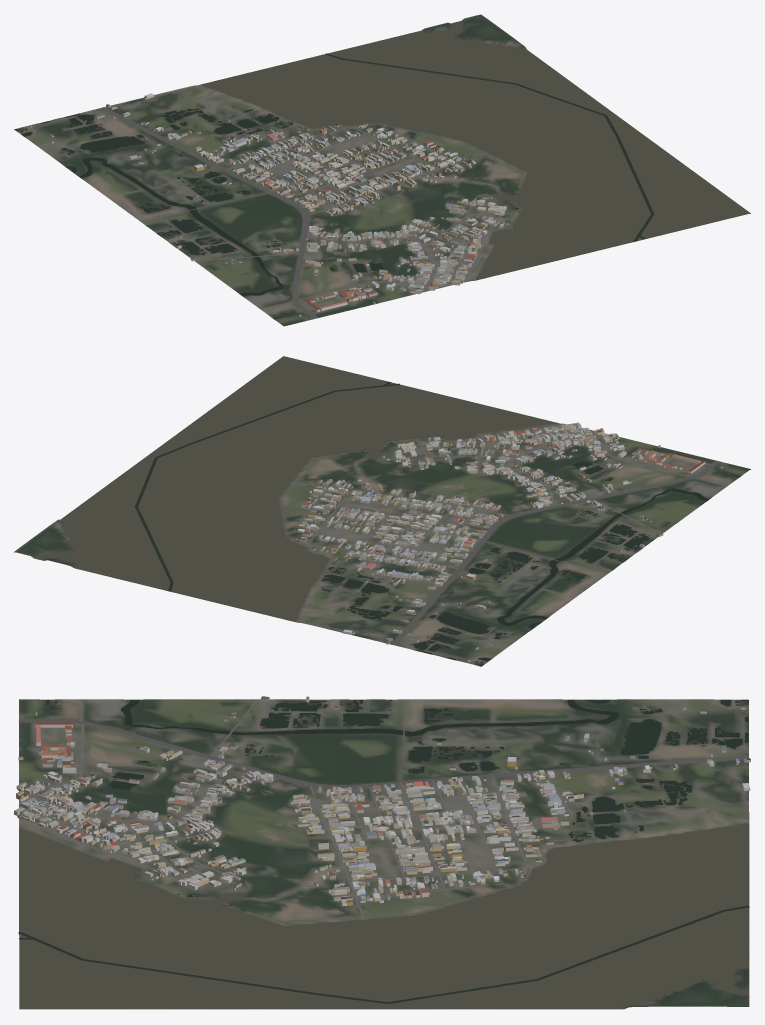
3 renders of one model, top to bottom at view 1: azimuth 30°, elevation 25°; view 2: azimuth 150°, elevation 25°; view 3: azimuth 270°, elevation 25°, orthographic. The views are drawn at different scales.
Parts seen in each view (by area): view 1: water, ground, buildings, roads; view 2: water, ground, buildings, roads; view 3: water, ground, buildings, roads.
Boxes of the visible parts, left/top/right/bottom form: water: left=15, top=21, right=749, bottom=318; ground: left=14, top=14, right=750, bottom=326; buildings: left=29, top=93, right=508, bottom=316; roads: left=99, top=107, right=510, bottom=318; water: left=34, top=356, right=739, bottom=666; ground: left=14, top=356, right=750, bottom=666; buildings: left=295, top=422, right=722, bottom=661; roads: left=281, top=428, right=727, bottom=645; water: left=18, top=699, right=749, bottom=1008; ground: left=19, top=699, right=749, bottom=1009; buildings: left=14, top=696, right=750, bottom=905; roads: left=18, top=699, right=749, bottom=917.
Size of the model in its own units: 1408 by 19.51 by 1414.
